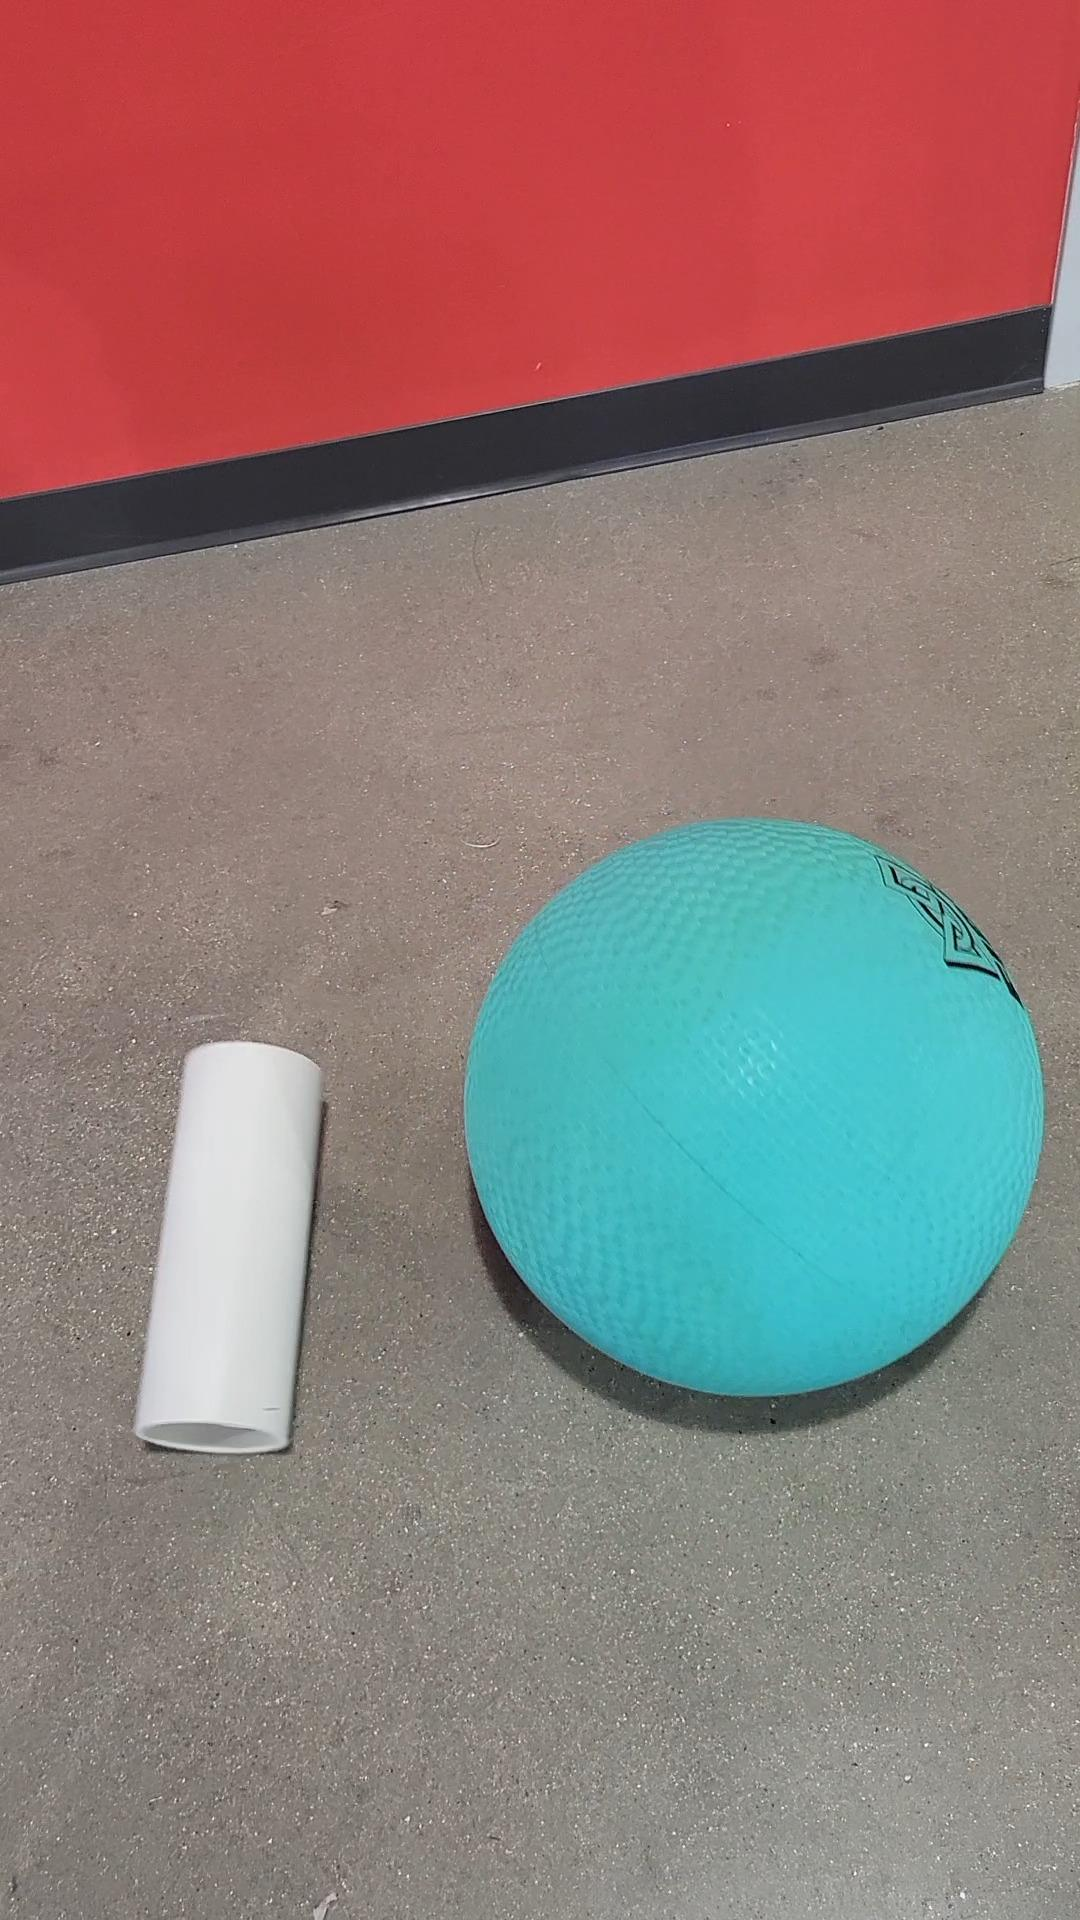algae: (459, 815, 1051, 1399)
coral: (129, 1035, 324, 1455)
